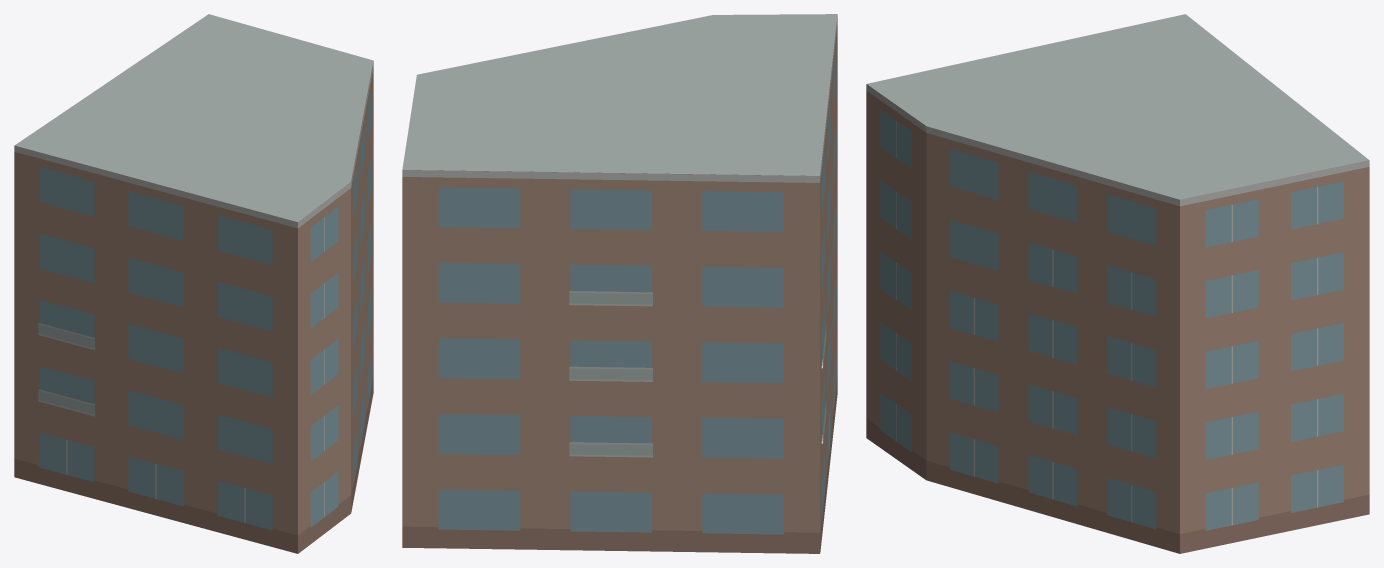
The model's file is survey-upis-32862258.glb.
3 renders of one model, left to right at view 1: azimuth 30°, elevation 25°; view 2: azimuth 150°, elevation 25°; view 3: azimuth 270°, elevation 25°, orthographic. The views are drawn at different scales.
Visible parts, largest first — view 1: survey-upis-32862258.tmp; view 2: survey-upis-32862258.tmp; view 3: survey-upis-32862258.tmp.
Boxes of the visible parts, left/top/right/bottom form: survey-upis-32862258.tmp: left=14, top=14, right=373, bottom=553; survey-upis-32862258.tmp: left=402, top=14, right=837, bottom=553; survey-upis-32862258.tmp: left=866, top=14, right=1369, bottom=553.
Size of the model in its own units: 14.75 by 13.1 by 16.88.
